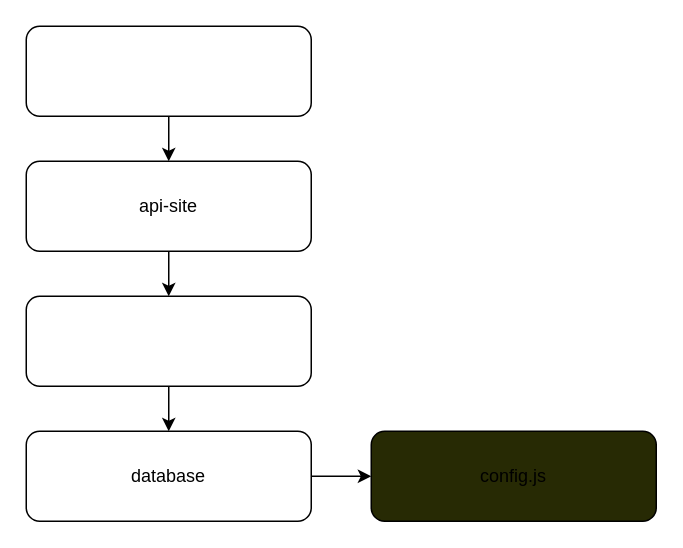
Image size: 683x548. Some labels were removed from this diagram. Here are the shapes that lost their labels. From the top down, the centre of each, then its label:
pixel 168 70: CONEXAO COM BANCO SITE
pixel 168 340: src
